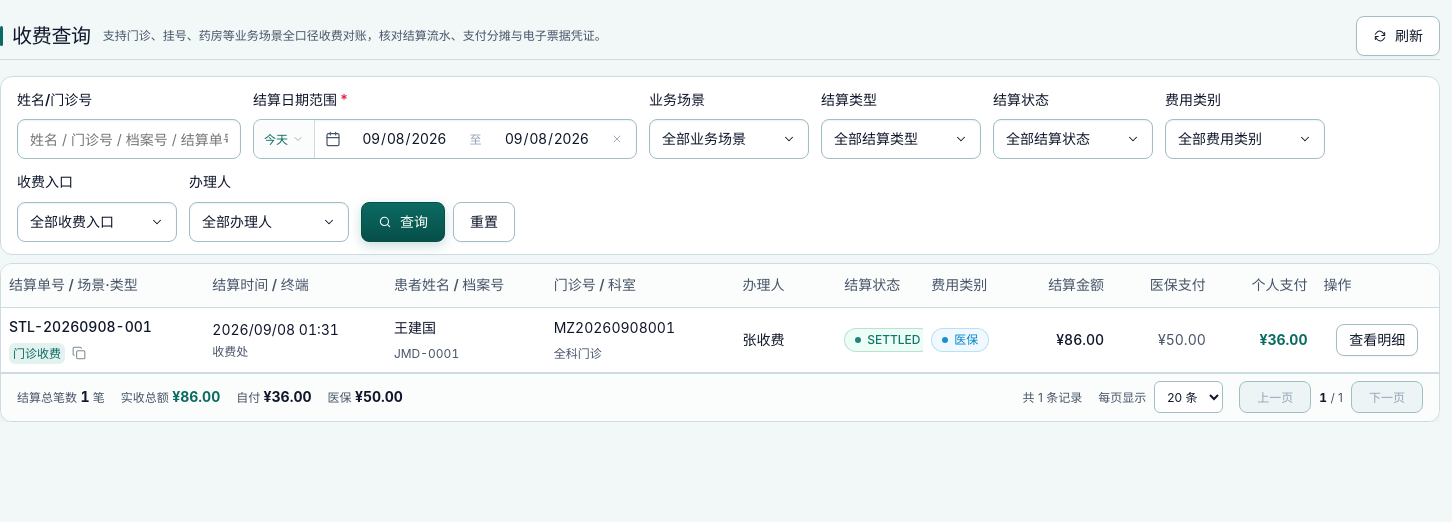
Test: BillingQueryWorkspace › starts today, preserves required dates, and submits cashier selection to the server
Expected: the button with aria-label "结算记录 STL-20260908-001" shows "张收费", [1,308,1439,372]
Expected: the button with aria-label "结算记录 STL-20260908-001" shows "收费处", [1,308,1439,372]
Clear the date field named "结束日期" at (547, 139), box [490,120,604,158]
Expected: the date field named "开始日期" holds "2026-09-08", [347,120,462,158]
Click the dropdown labelled "办理人" at (269, 222), box [189,202,349,242]
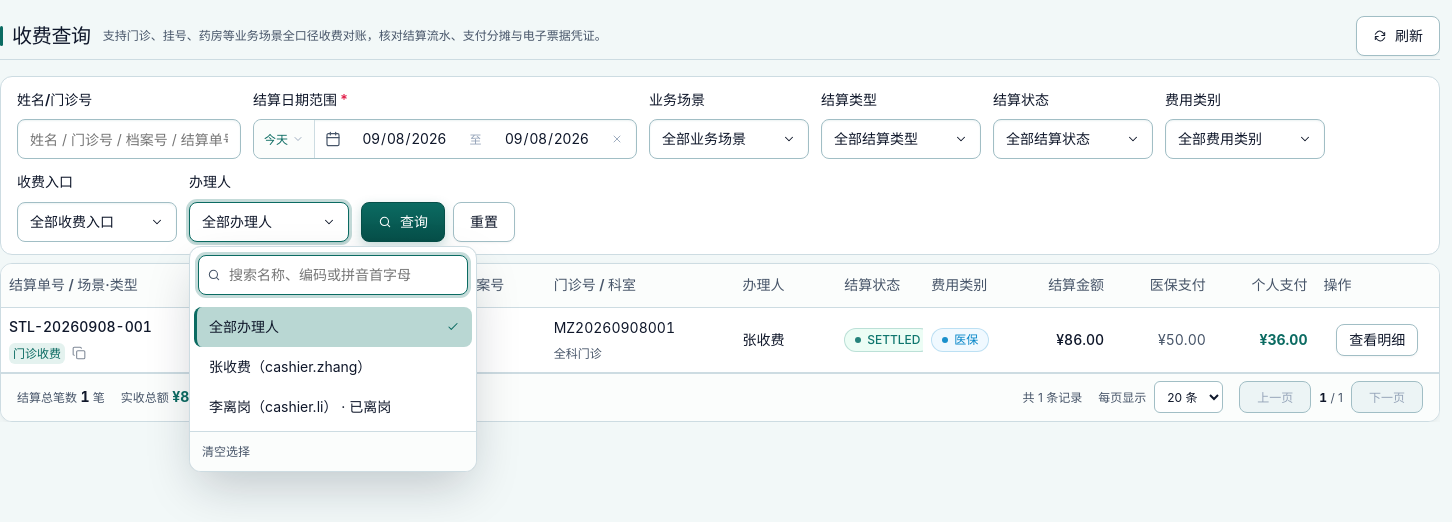
Now the option "李离岗（cashier.li） · 已离岗" is shown, box [194,387,472,427]
Click the option "张收费（cashier.zhang）" at (333, 367), box [194,347,472,387]
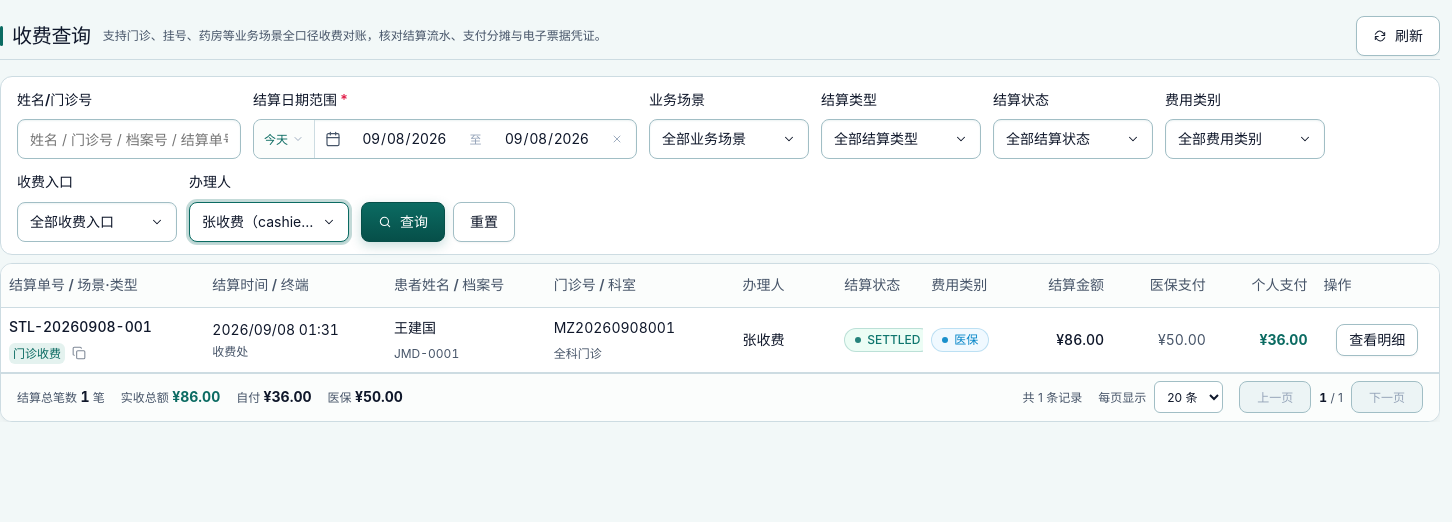
Click the button "查询" at (403, 222), box [361,202,445,242]
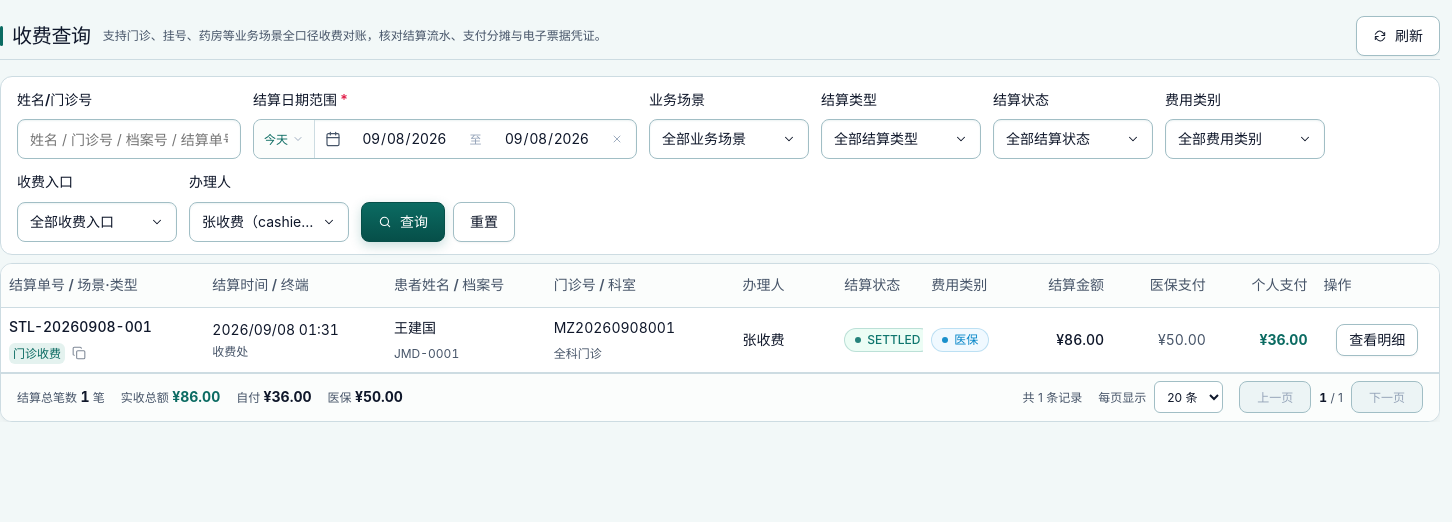
Click the button "重置" at (484, 222), box [453,202,515,242]
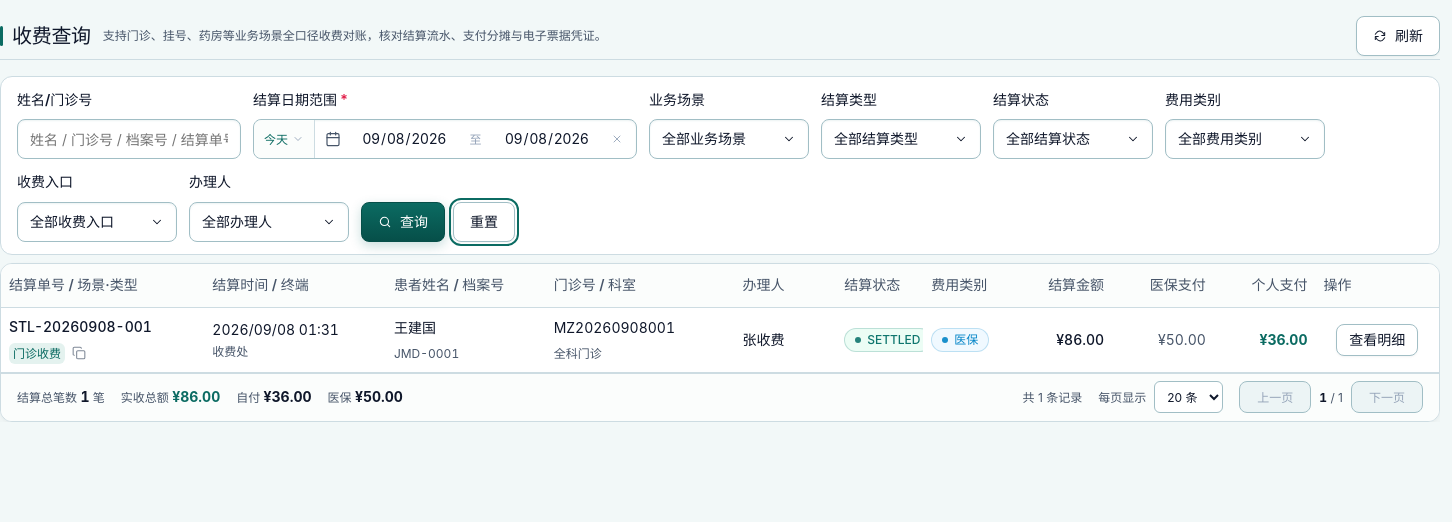
Expected: the date field named "开始日期" holds "2026-09-08", [347,120,462,158]
Now the dropdown labelled "办理人" reads "全部办理人", box [189,202,349,242]
